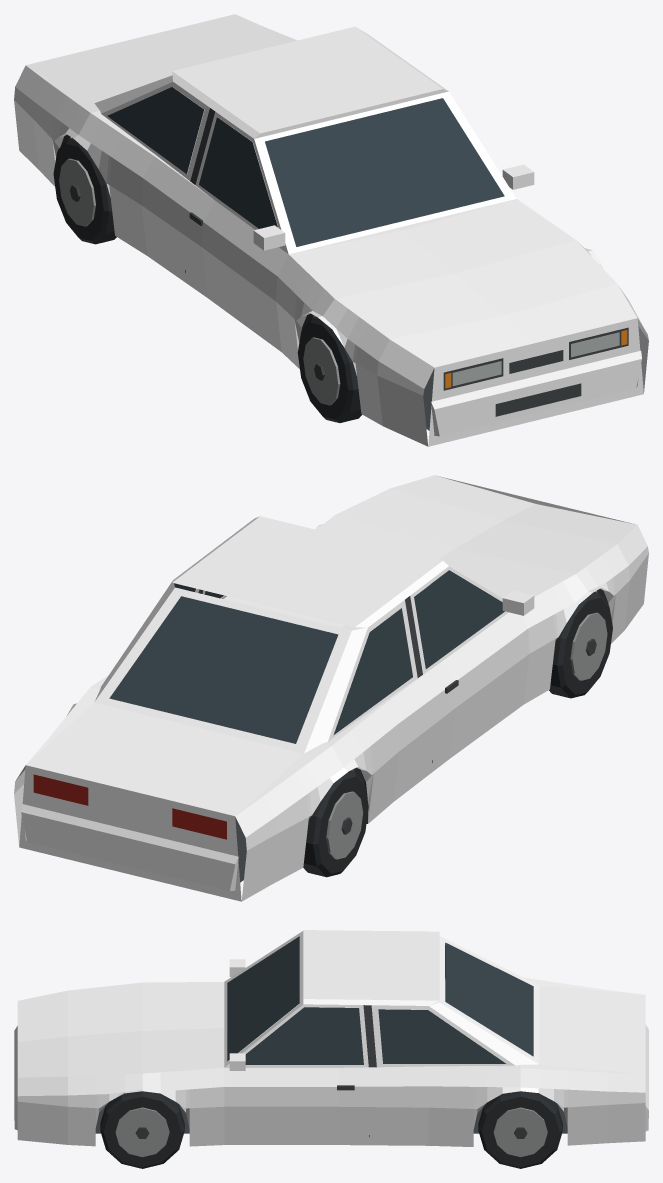
File: keldorf_sturm_s.glb
3 renders of one model, top to bottom at view 1: azimuth 30°, elevation 25°; view 2: azimuth 150°, elevation 25°; view 3: azimuth 270°, elevation 25°, orthographic. The views are drawn at different scales.
Parts seen in each view (by area): view 1: keldorf_sturm_s; view 2: keldorf_sturm_s; view 3: keldorf_sturm_s.
Part boxes in pixels (left/top/right/bottom): keldorf_sturm_s: left=14, top=14, right=648, bottom=446; keldorf_sturm_s: left=14, top=475, right=648, bottom=901; keldorf_sturm_s: left=14, top=930, right=648, bottom=1168.
Size of the model in its own units: 1.82 by 1.27 by 4.7.
Materials: 8 (1 with a texture image).
